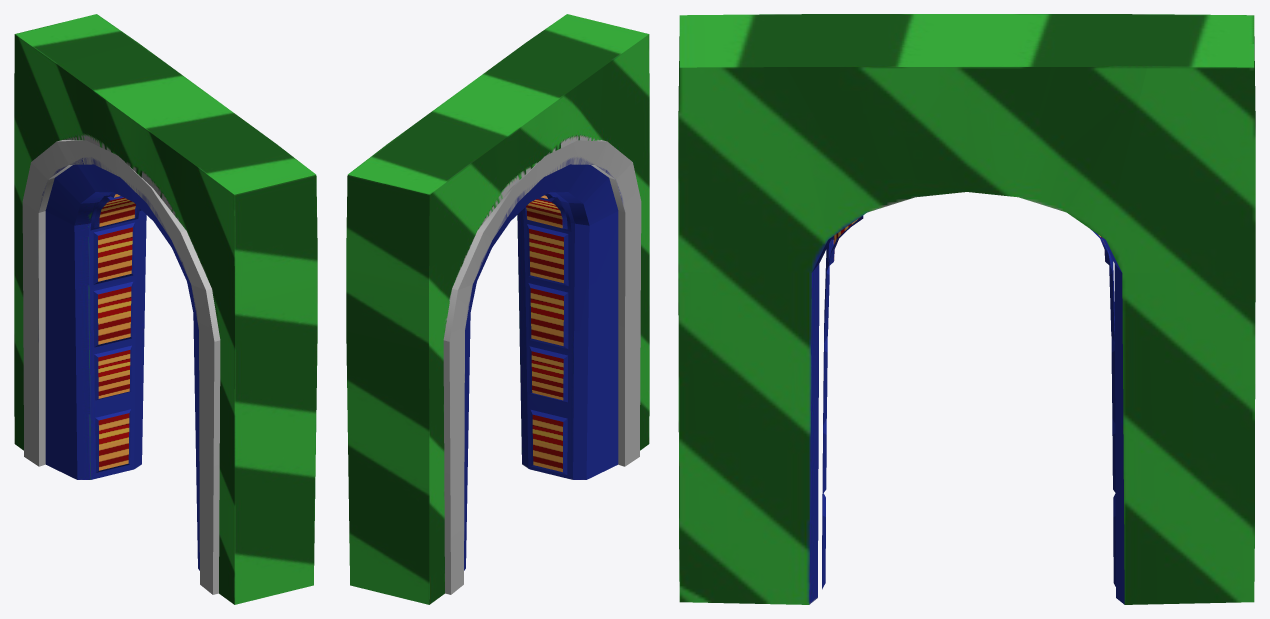
Rendered from Arc.fbx.
3 renders of one model, left to right at view 1: azimuth 30°, elevation 25°; view 2: azimuth 150°, elevation 25°; view 3: azimuth 270°, elevation 25°, orthographic. The views are drawn at different scales.
Visible parts, largest first — view 1: Main, Inside; view 2: Main, Inside; view 3: Main, Inside.
Part boxes in pixels (left/top/right/bottom): Main: left=14, top=14, right=317, bottom=604; Inside: left=90, top=192, right=139, bottom=472; Main: left=346, top=14, right=649, bottom=604; Inside: left=522, top=193, right=571, bottom=478; Main: left=678, top=14, right=1255, bottom=604; Inside: left=822, top=215, right=1115, bottom=589.
Size of the model in its own units: 4.28 by 19.05 by 18.41.
1 material, 1 textured.
